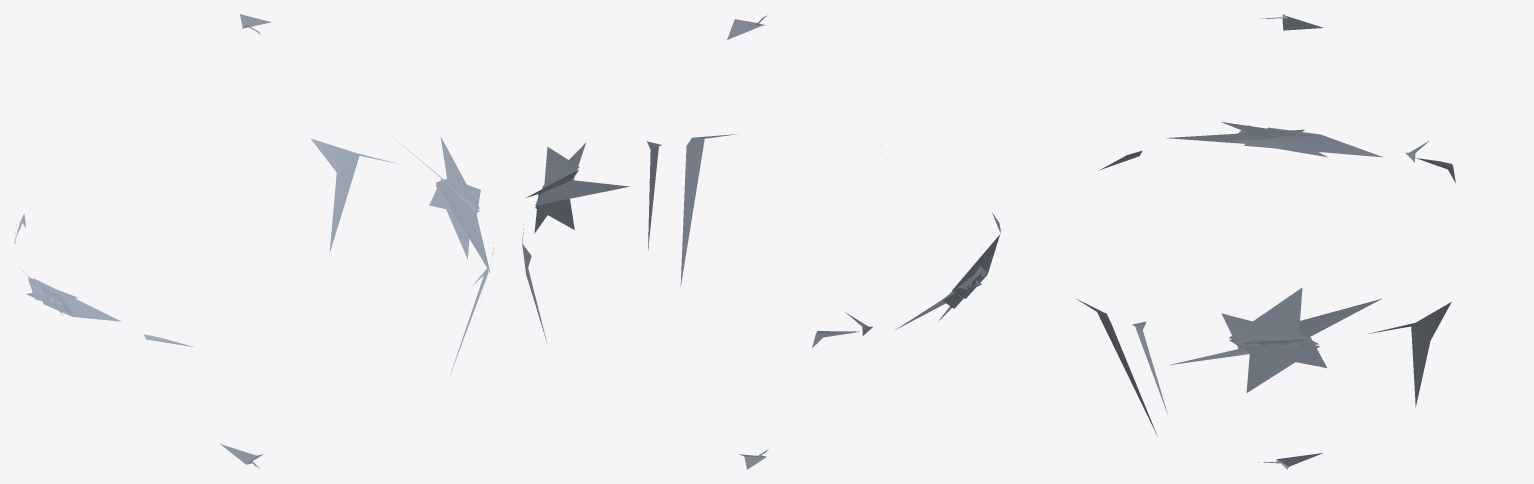
File: stage3.glb
3 views of the same model, side by side, from view 1: azimuth 30°, elevation 25°; view 2: azimuth 150°, elevation 25°; view 3: azimuth 270°, elevation 25° (orthographic). The views are drawn at different scales.
Visible parts, largest first — view 1: dsf-3-structural; view 2: dsf-3-structural; view 3: dsf-3-structural.
Boxes of the visible parts, x1=… form: dsf-3-structural: x1=14, y1=14, x2=493, y2=468; dsf-3-structural: x1=522, y1=15, x2=1000, y2=469; dsf-3-structural: x1=1076, y1=14, x2=1455, y2=469.
Size of the model in its own units: 2 by 2 by 2.
